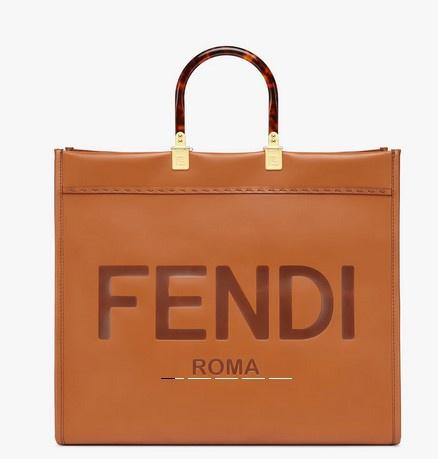FENDI: (98, 264, 355, 341)
